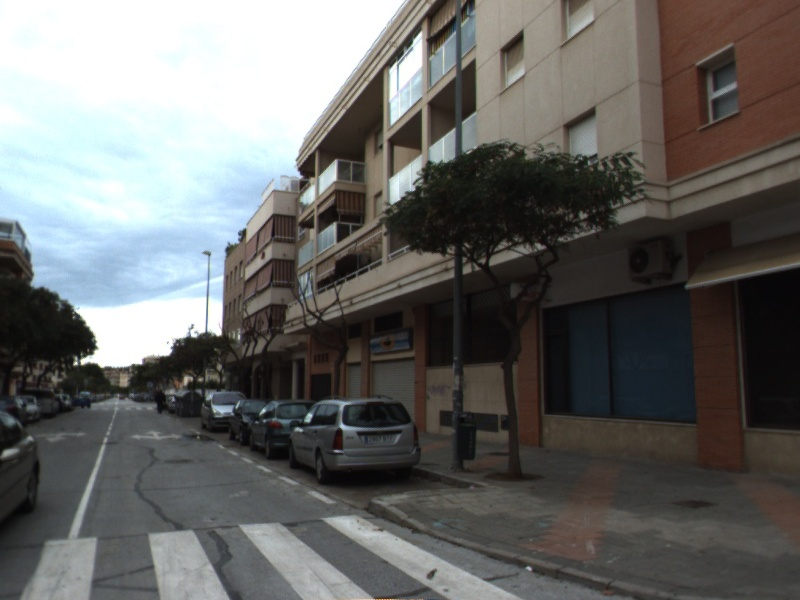STRAIGHT_LEFT_RIGHT: (128, 429, 185, 442)
